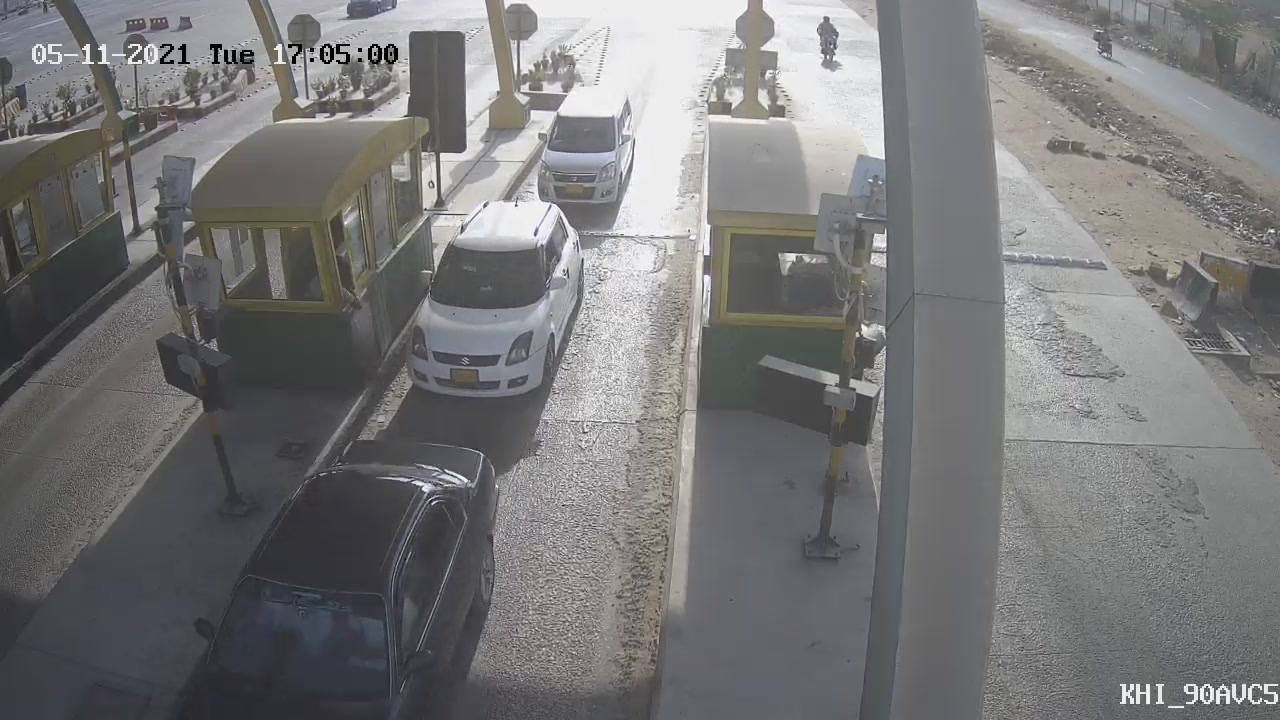F1: (389, 181, 603, 420), (522, 73, 647, 222)
